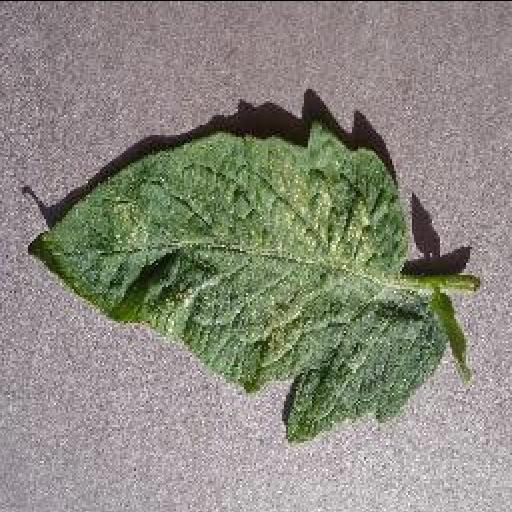disease_tomato: (38, 118, 448, 442)
